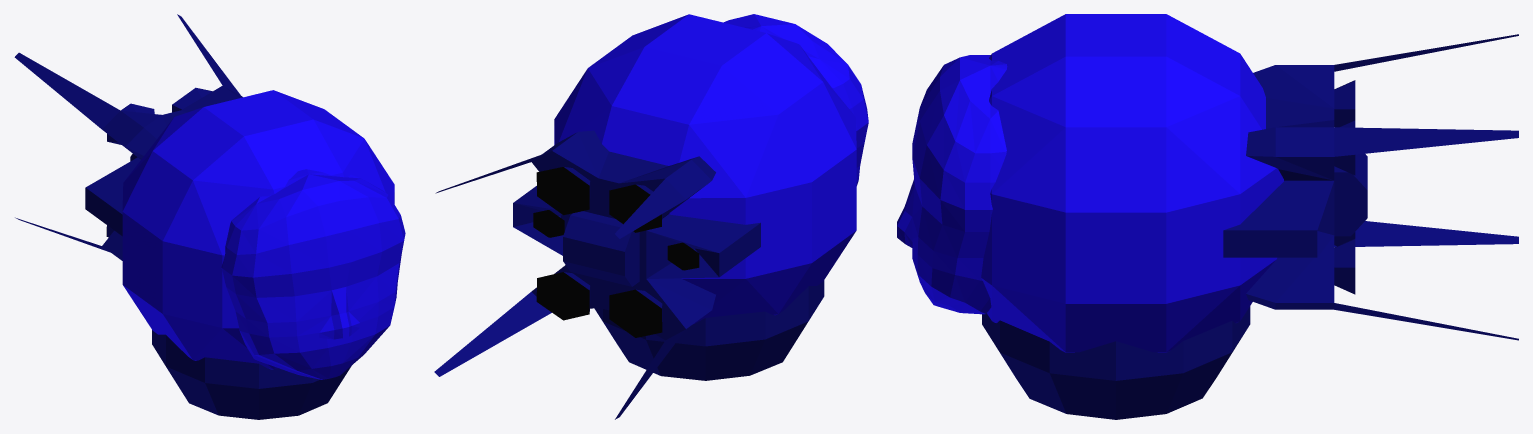
3 renders of one model, left to right at view 1: azimuth 30°, elevation 25°; view 2: azimuth 150°, elevation 25°; view 3: azimuth 270°, elevation 25°, orthographic. The views are drawn at different scales.
Parts seen in each view (by area): view 1: VIFS001, VIFS011, VIFS002, VIFS007; view 2: VIFS001, VIFS002, VIFS007, VIFS006, VIFS005, VIFS011, VIFS004; view 3: VIFS001, VIFS002, VIFS011, VIFS007, VIFS004, VIFS005.
Boxes of the visible parts, <box> form: VIFS001: <box>122,90,394,369</box>; VIFS011: <box>221,169,405,379</box>; VIFS002: <box>14,14,242,260</box>; VIFS007: <box>152,330,351,419</box>; VIFS001: <box>554,14,856,323</box>; VIFS002: <box>434,130,760,419</box>; VIFS007: <box>594,280,824,380</box>; VIFS006: <box>533,167,699,337</box>; VIFS005: <box>513,151,719,340</box>; VIFS011: <box>723,14,868,185</box>; VIFS004: <box>599,151,669,218</box>; VIFS001: <box>981,14,1283,352</box>; VIFS002: <box>1223,34,1518,340</box>; VIFS011: <box>897,55,1007,314</box>; VIFS007: <box>982,306,1250,419</box>; VIFS004: <box>1266,98,1334,180</box>; VIFS005: <box>1317,181,1334,257</box>.
Bounding box in the file's own units: 0.04 × 0.045 × 0.0741.
